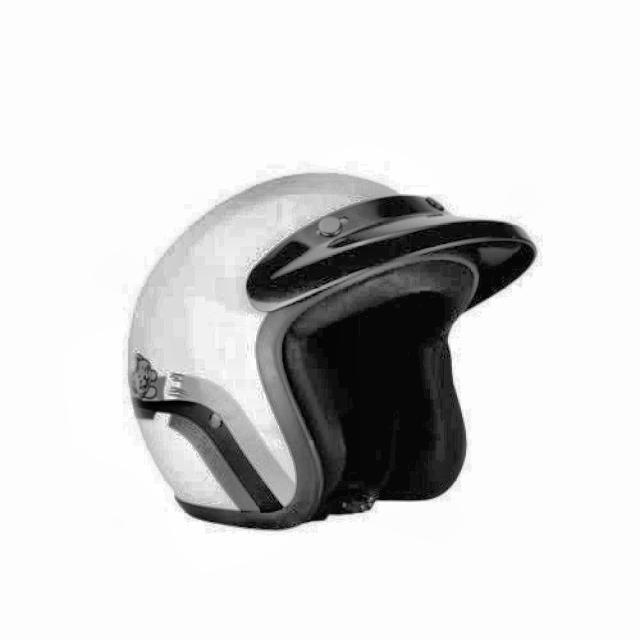Helmet: (124, 157, 548, 540)
